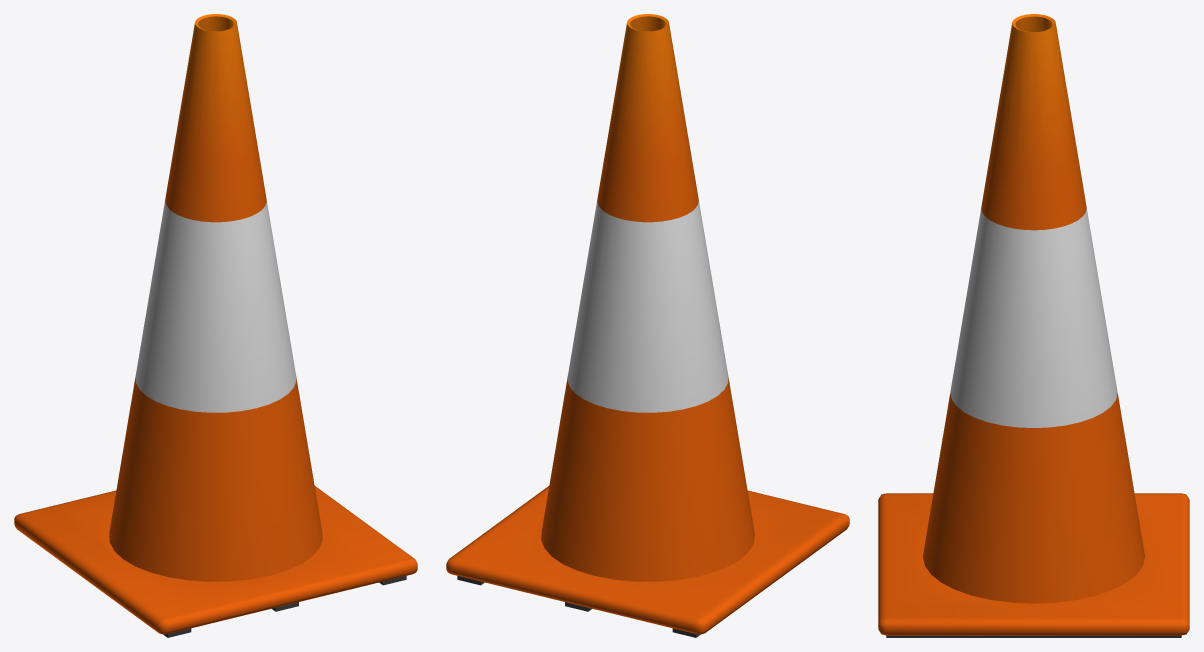
File: cone_i_medium.glb
The picture shows the model from 3 angles, left to right: view 1: azimuth 30°, elevation 25°; view 2: azimuth 150°, elevation 25°; view 3: azimuth 270°, elevation 25°; orthographic projection. The views are drawn at different scales.
Parts seen in each view (by area): view 1: cone_i_medium; view 2: cone_i_medium; view 3: cone_i_medium.
Boxes of the visible parts, <box> form: cone_i_medium: <box>14,14,417,637</box>; cone_i_medium: <box>446,14,849,637</box>; cone_i_medium: <box>878,14,1189,637</box>.
Size of the model in its own units: 0.3619 by 0.7116 by 0.3619.
1 material, 1 textured.
